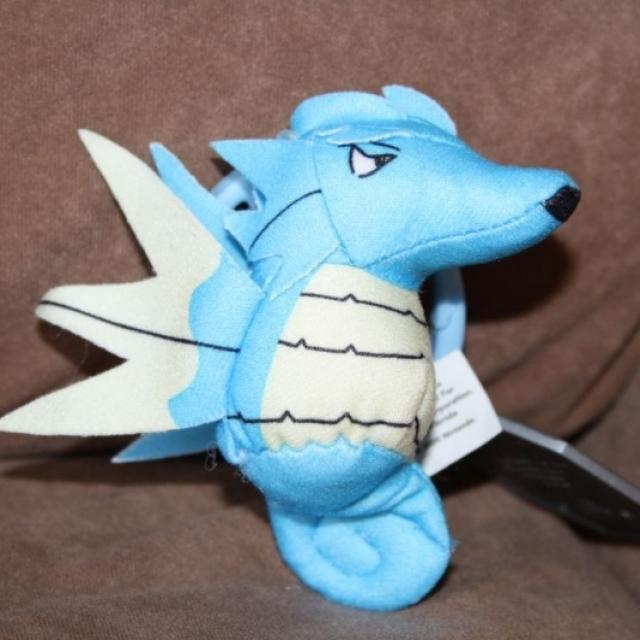Seadra: (79, 77, 570, 602)
